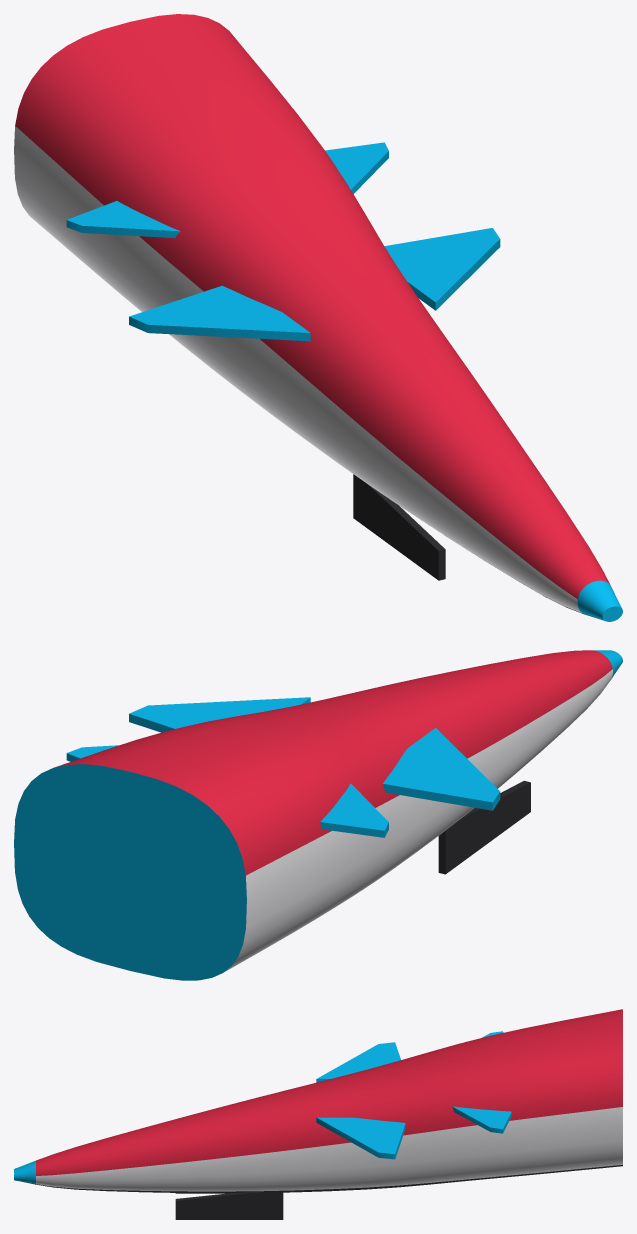
The model's file is shark.glb.
The picture shows the model from 3 angles, top to bottom: view 1: azimuth 30°, elevation 25°; view 2: azimuth 150°, elevation 25°; view 3: azimuth 270°, elevation 25°; orthographic projection. The views are drawn at different scales.
Parts seen in each view (by area): view 1: Nose_shark; view 2: Nose_shark; view 3: Nose_shark.
Boxes of the visible parts, bbox=[...] form: Nose_shark: bbox=[14, 14, 622, 621]; Nose_shark: bbox=[14, 650, 622, 980]; Nose_shark: bbox=[14, 1009, 622, 1219].
Size of the model in its own units: 0.64 by 0.485 by 1.47.
